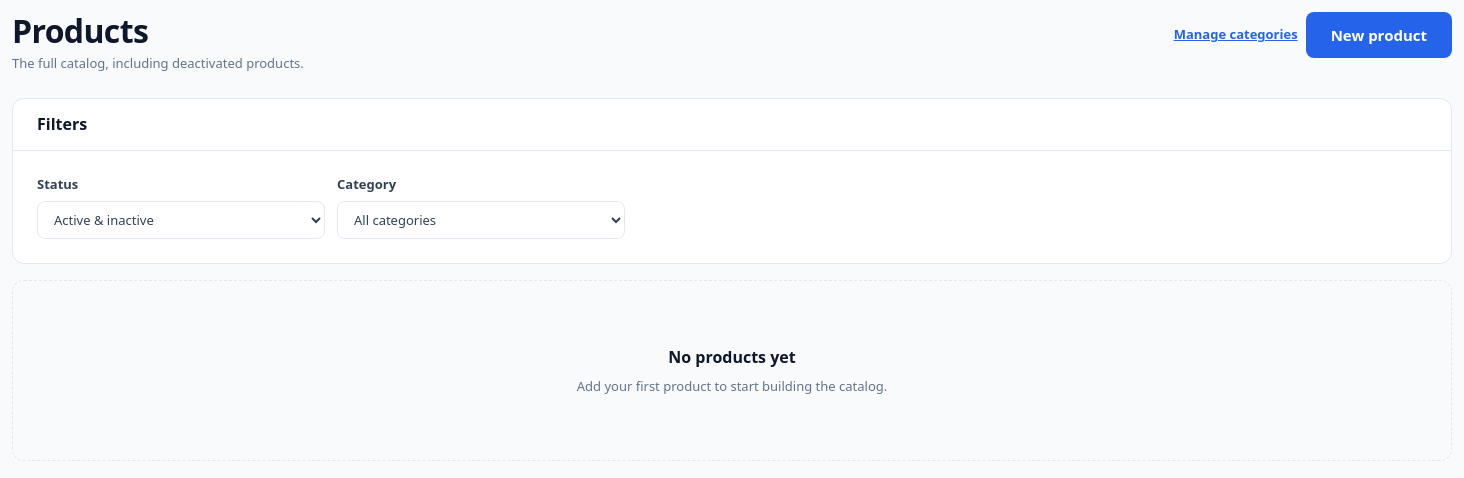
Test case: AdminProductsPage › shows a category filter built from GET /categories and refilters on change
The width and height of the screenshot is (1464, 478).
Select "Drinkware" in the dropdown labelled "Category". click: (481, 220)
box: [337,201,625,239]
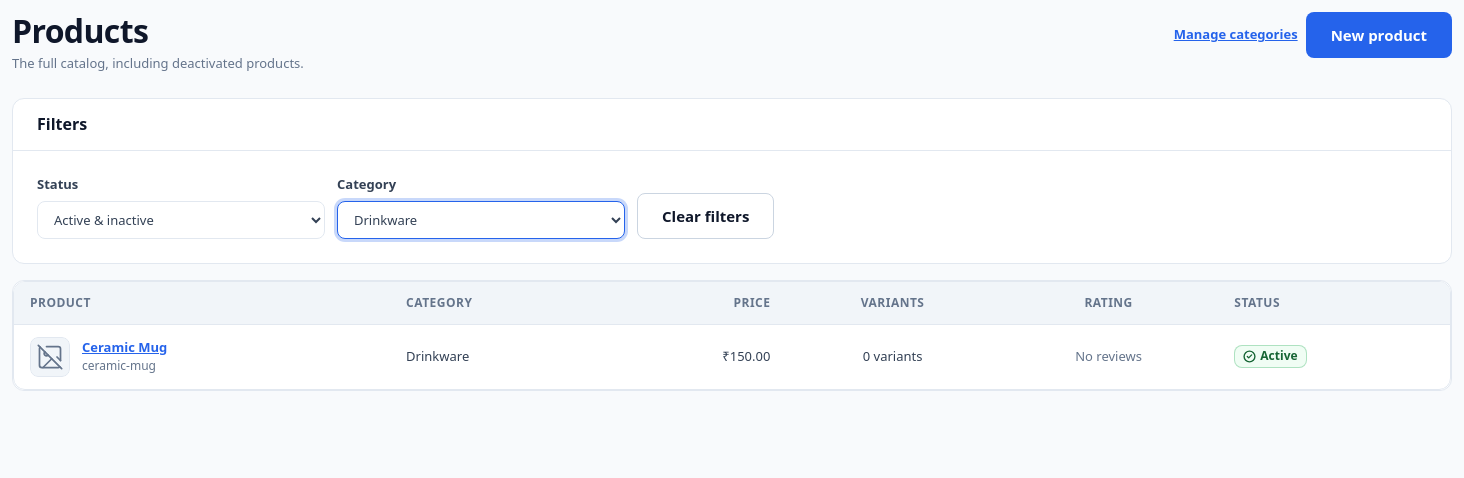
Now the link "Ceramic Mug" is shown, box [82,338,167,357]
